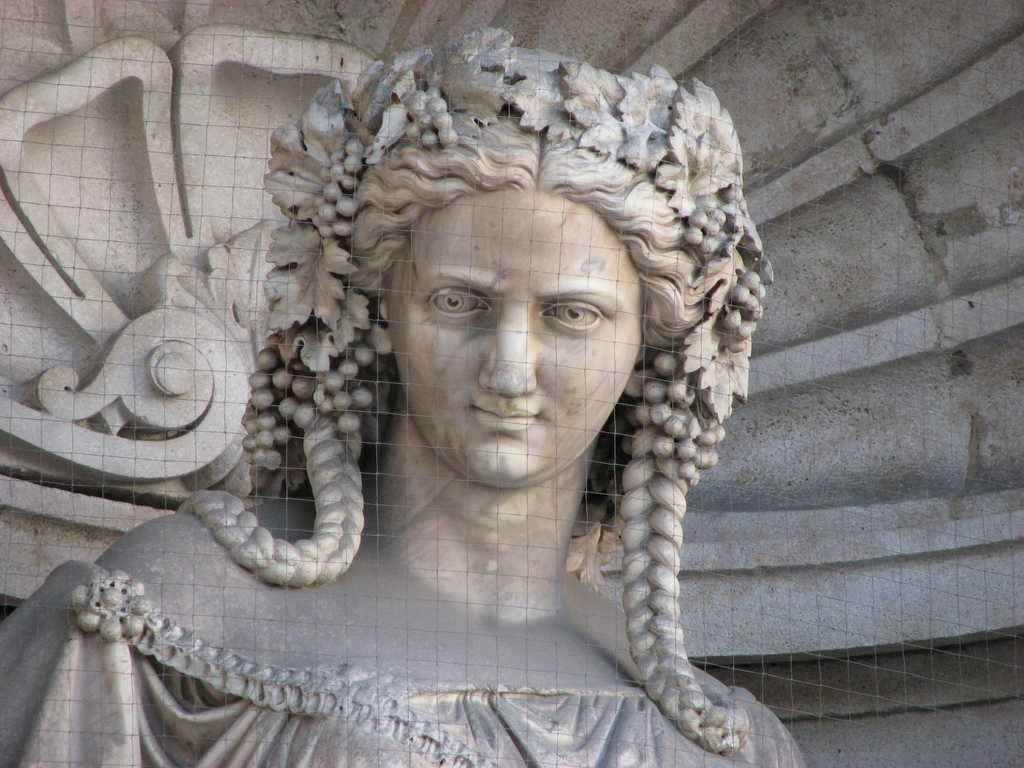face: (402, 176, 634, 487)
